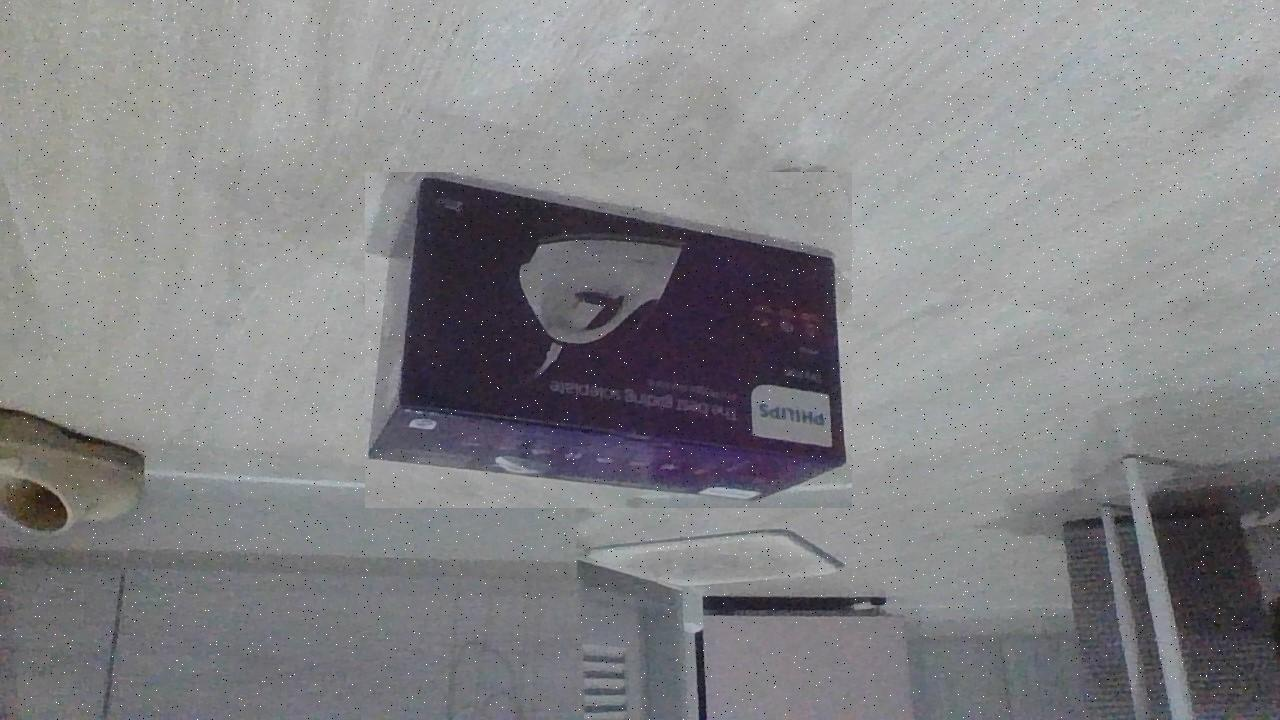Dryer: (365, 172, 852, 508)
